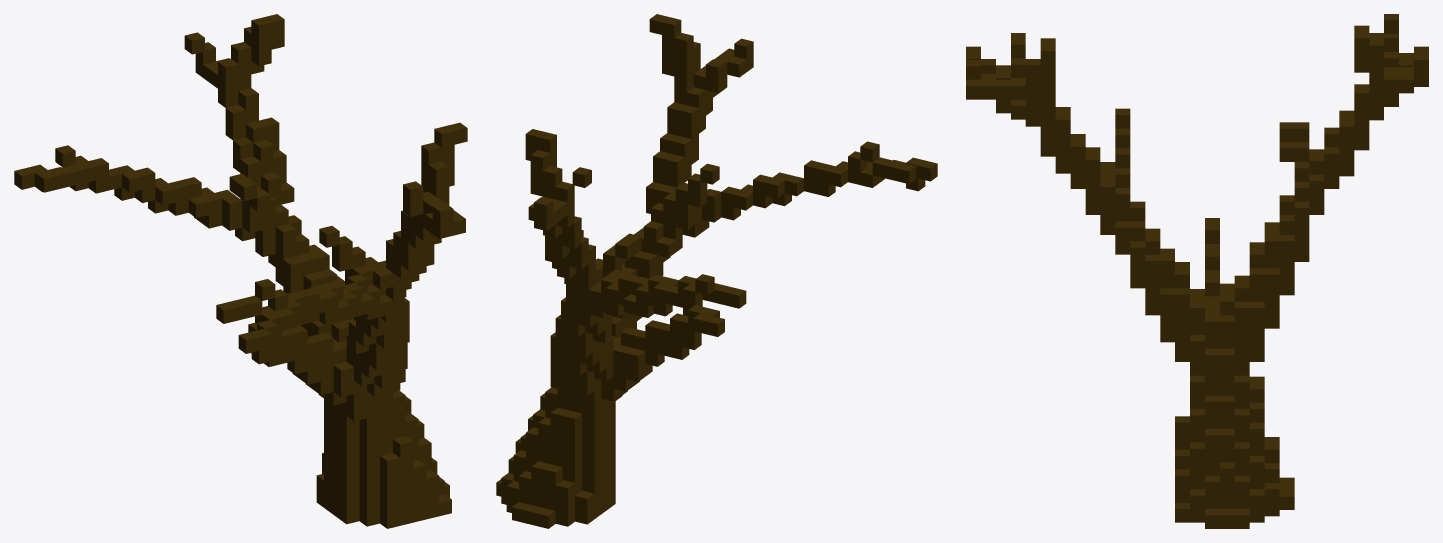
The model's file is AllSimpleModel-2-DeadTree2.obj.
The picture shows the model from 3 angles, left to right: view 1: azimuth 30°, elevation 25°; view 2: azimuth 150°, elevation 25°; view 3: azimuth 270°, elevation 25°; orthographic projection. The views are drawn at different scales.
Visible parts, largest first — view 1: DeadTree2; view 2: DeadTree2; view 3: DeadTree2.
Part boxes in pixels (bbox=[...]): DeadTree2: bbox=[14, 14, 467, 528]; DeadTree2: bbox=[496, 14, 937, 528]; DeadTree2: bbox=[966, 14, 1428, 528].
Size of the model in its own units: 2.5 by 3.3 by 3.1.
Materials: 1 (1 with a texture image).
